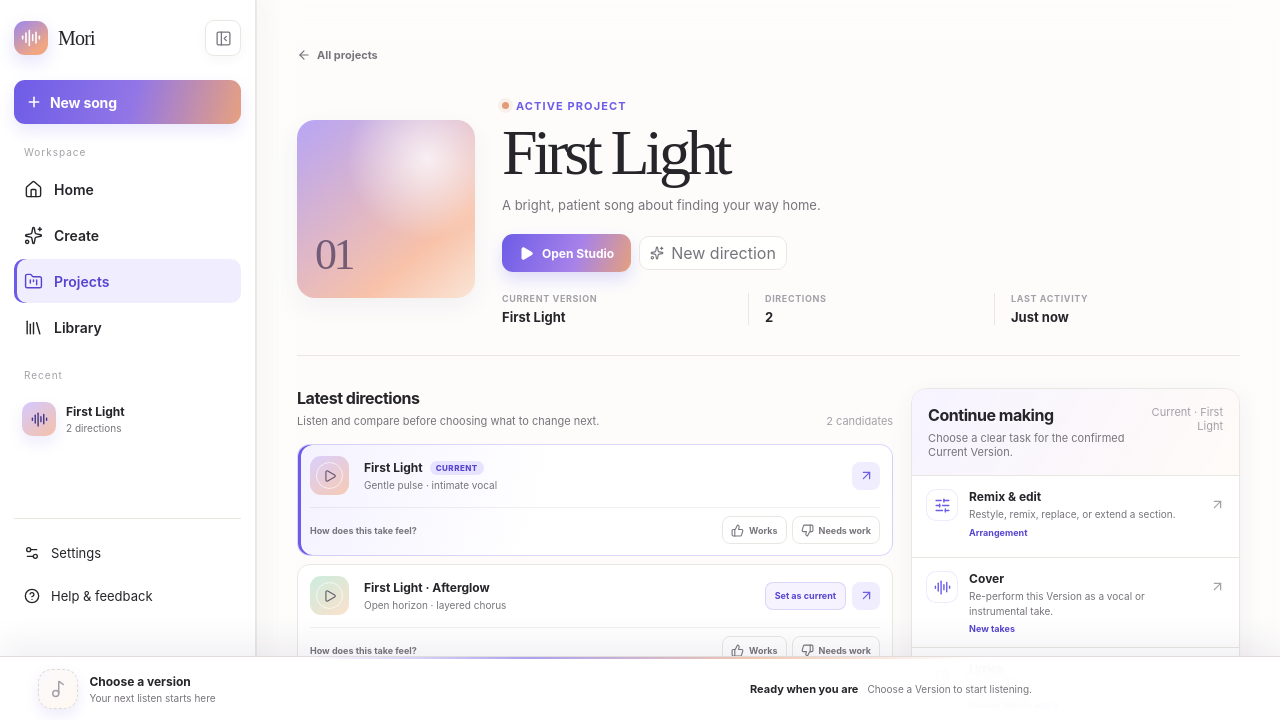
it: Mori project overview › shows playable controls when a preview candidate is selected
Click the button named "Play First Light": click(330, 476) [310,456,349,495]
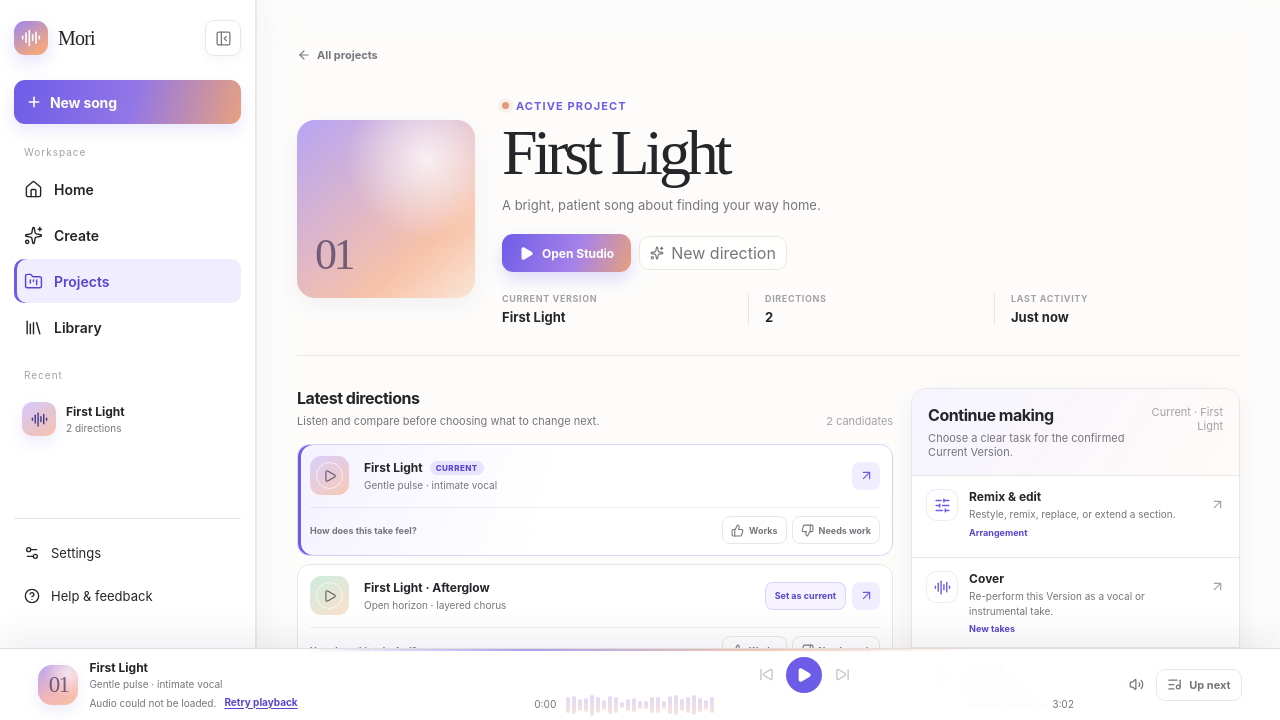
Expected: the element named "Global player" does not show "Preview audio is unavailable", [0,648,1279,719]
Result: the element named "Global player" shows "First Light" at [89,660,148,675]
Result: the button named "Pause" is shown at [786,656,822,692]
